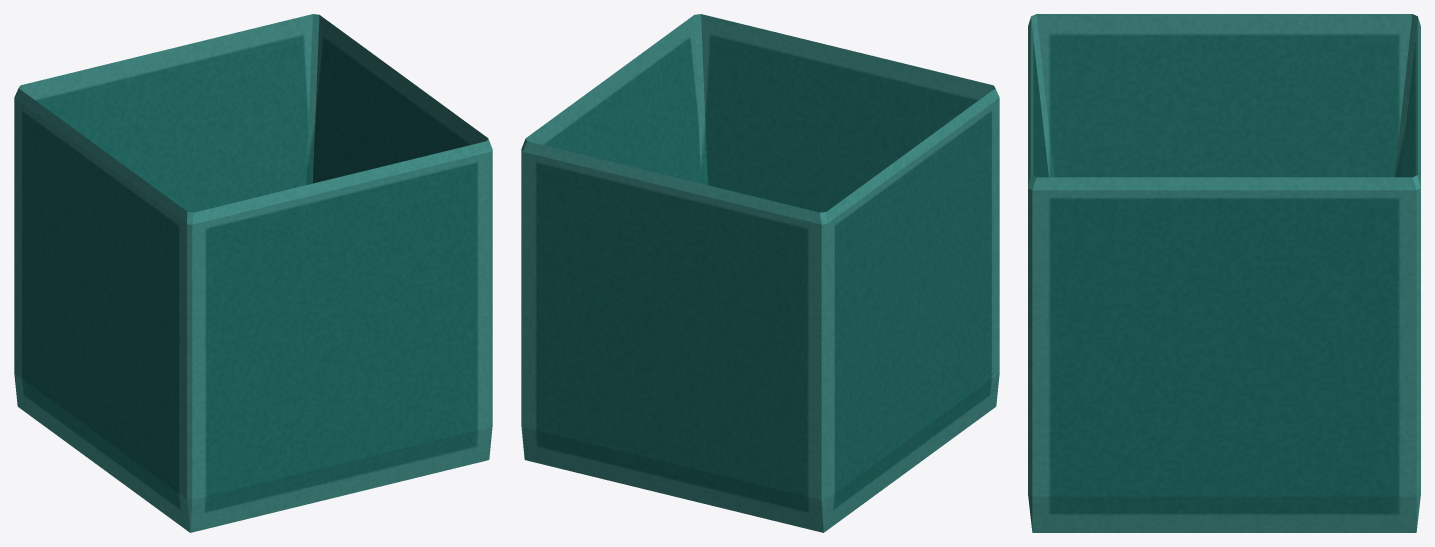
File: StationeryTray.glb
The picture shows the model from 3 angles, left to right: view 1: azimuth 30°, elevation 25°; view 2: azimuth 150°, elevation 25°; view 3: azimuth 270°, elevation 25°; orthographic projection. The views are drawn at different scales.
Parts seen in each view (by area): view 1: StationeryTray; view 2: StationeryTray; view 3: StationeryTray.
Boxes of the visible parts, bbox=[...] form: StationeryTray: bbox=[14, 14, 492, 532]; StationeryTray: bbox=[521, 14, 999, 532]; StationeryTray: bbox=[1028, 14, 1420, 532].
Bounding box in the file's own units: 1 × 1 × 1.
Materials: 1 (1 with a texture image).
